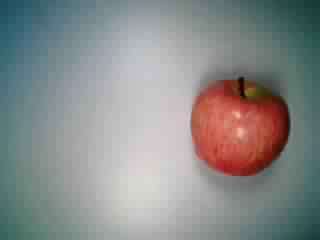apple: (189, 73, 294, 175)
